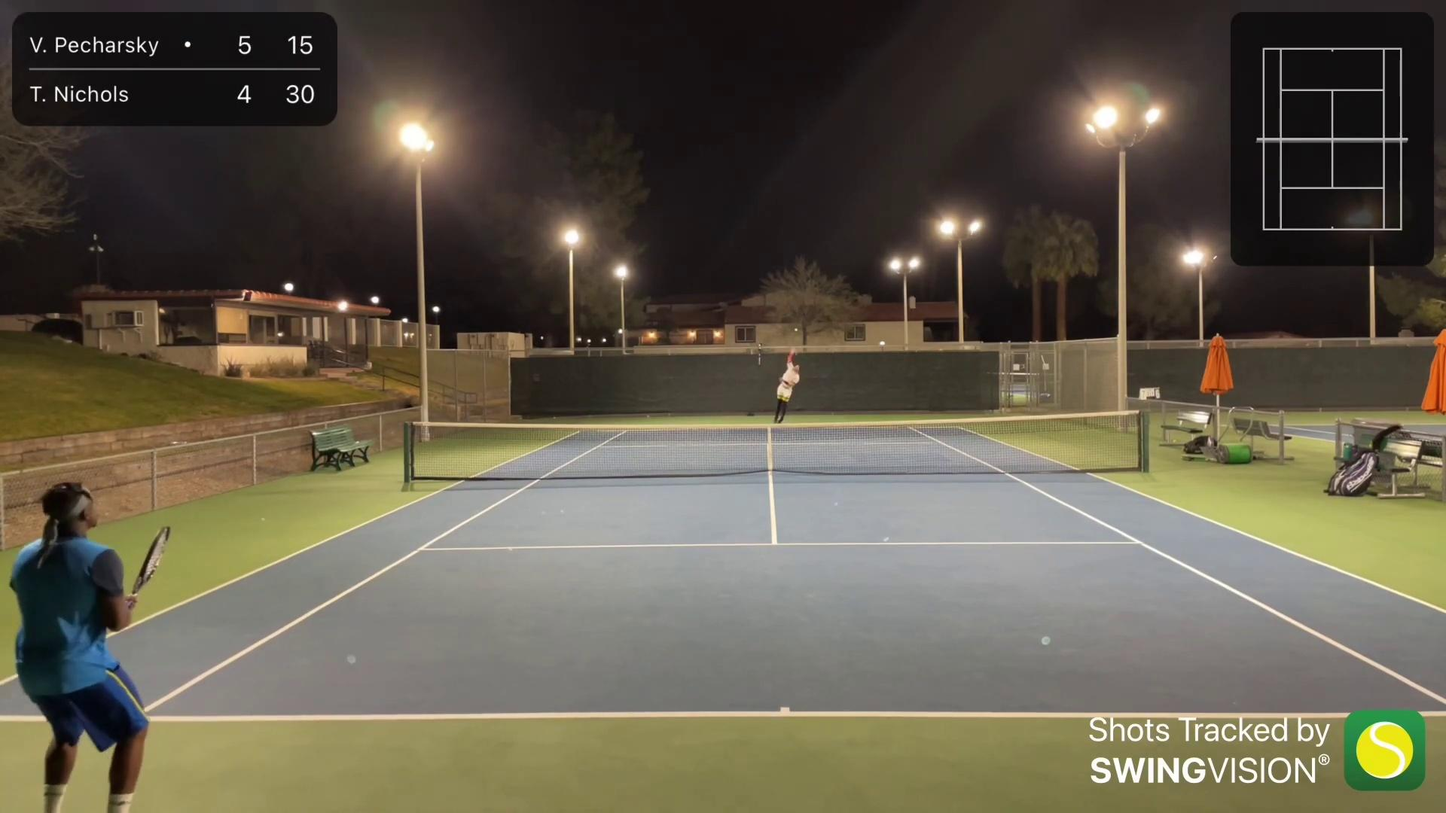ball: (794, 328, 801, 333)
